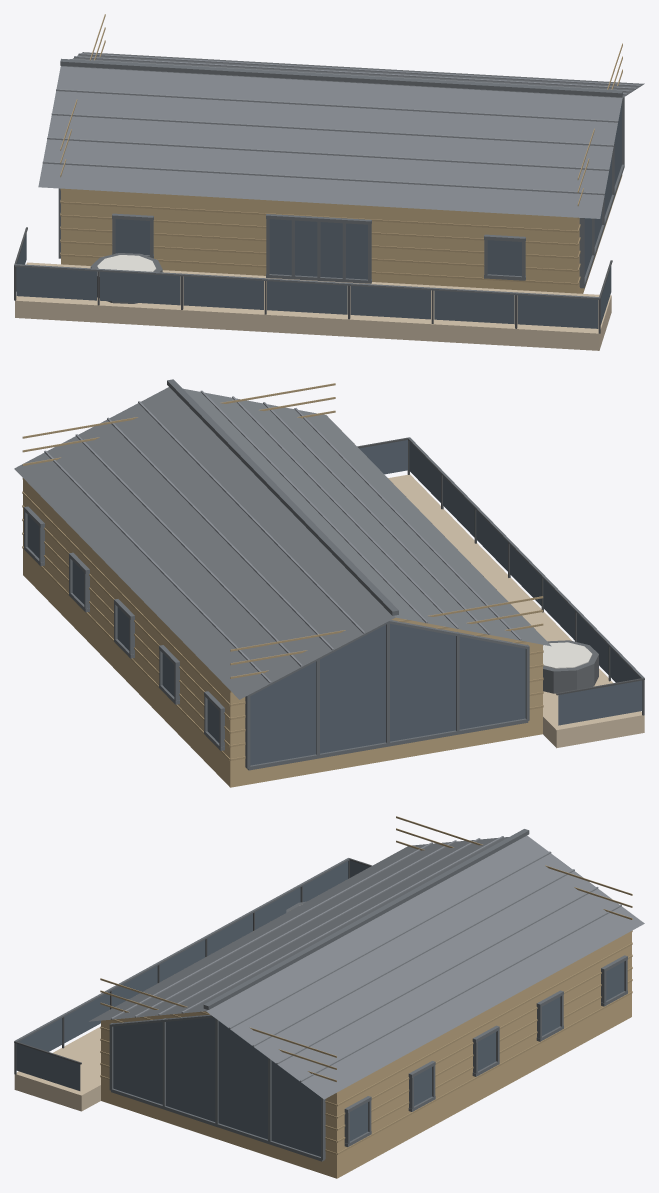
3 renders of one model, top to bottom at view 1: azimuth 30°, elevation 25°; view 2: azimuth 150°, elevation 25°; view 3: azimuth 270°, elevation 25°, orthographic. The views are drawn at different scales.
Parts seen in each view (by area): view 1: slate, door_wood, larch, slate_dk, slate_lt, door_wood_p, window_glass_007, window_glass_004, window_glass_001, window_glass_003, window_glass_002, window_glass_005 (+10 smaller); view 2: slate, window_glass_017, door_wood, slate_dk, slate_lt, larch, door_wood_p, window_glass_008, band_dark, window_glass_009, pipe, string (+6 smaller); view 3: slate, door_wood, window_glass_016, slate_dk, slate_lt, door_wood_p, larch, window_glass_009, window_glass_006, window_glass_004, window_glass_001, window_glass_003 (+9 smaller).
Part boxes in pixels (x1,y1,x2,y2): slate: [38, 52, 644, 218]; door_wood: [61, 175, 622, 293]; larch: [15, 262, 611, 350]; slate_dk: [15, 58, 624, 299]; slate_lt: [42, 53, 640, 195]; door_wood_p: [60, 14, 622, 285]; window_glass_007: [517, 295, 598, 328]; window_glass_004: [267, 281, 347, 314]; window_glass_001: [16, 267, 96, 300]; window_glass_003: [183, 276, 263, 309]; window_glass_002: [100, 271, 180, 305]; window_glass_005: [350, 286, 430, 319]; slate: [14, 387, 551, 699]; window_glass_017: [250, 623, 525, 765]; door_wood: [23, 430, 542, 787]; slate_dk: [24, 379, 644, 770]; slate_lt: [44, 390, 521, 683]; larch: [388, 474, 644, 748]; door_wood_p: [22, 383, 543, 760]; window_glass_008: [558, 680, 642, 725]; band_dark: [543, 640, 598, 693]; window_glass_009: [359, 440, 407, 474]; pipe: [357, 437, 644, 715]; string: [543, 642, 592, 668]; slate: [89, 835, 644, 1099]; door_wood: [101, 931, 631, 1178]; window_glass_016: [113, 1017, 320, 1156]; slate_dk: [15, 829, 627, 1161]; slate_lt: [111, 836, 621, 1081]; door_wood_p: [100, 816, 632, 1154]; larch: [14, 1027, 100, 1111]; window_glass_009: [16, 1043, 80, 1090]; window_glass_006: [64, 992, 109, 1043]; window_glass_004: [159, 940, 205, 981]; window_glass_001: [302, 861, 348, 901]; window_glass_003: [207, 913, 252, 955].
Size of the model in its own units: 18.76 by 4.43 by 17.9.
